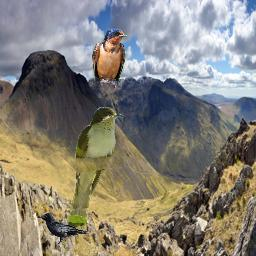Crow: (37, 213, 89, 245)
Cuckoo: (66, 107, 124, 237)
Swallow: (92, 28, 127, 89)
